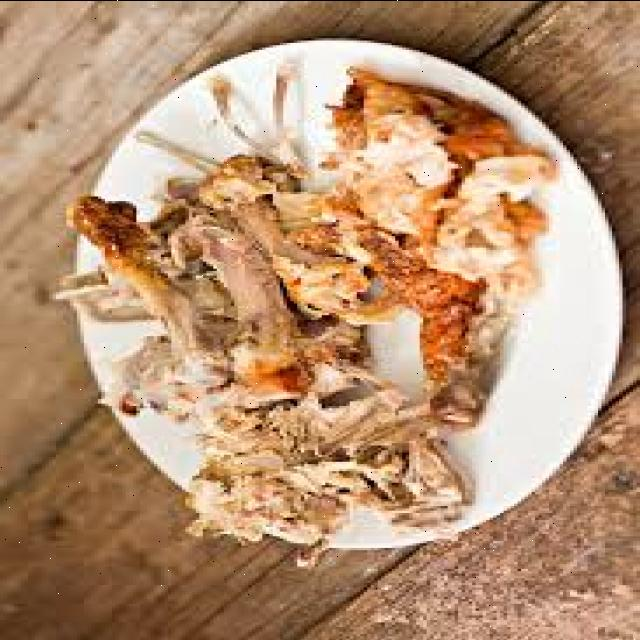Bones: (59, 72, 553, 566), (273, 77, 283, 130)
